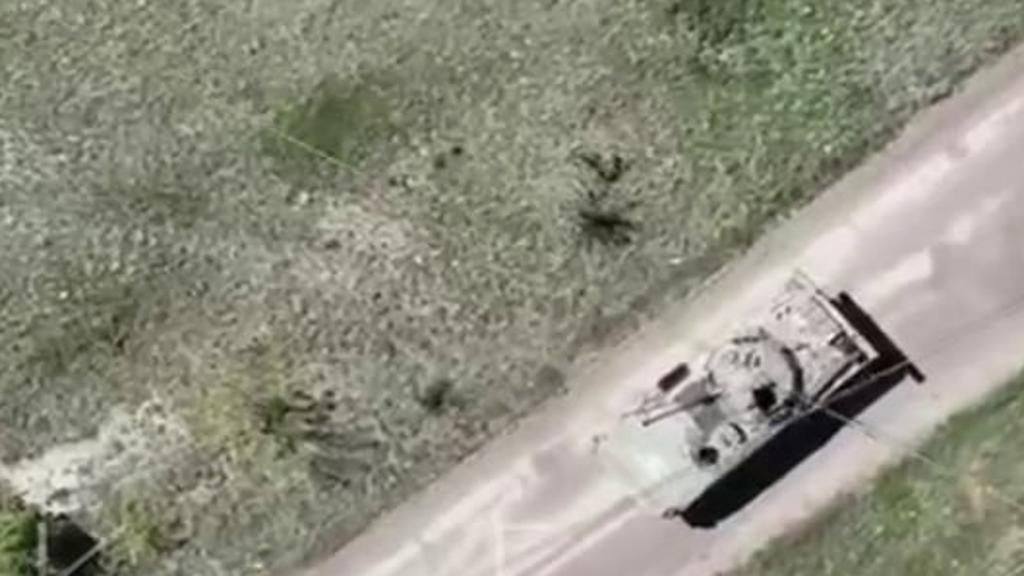APC-IFV: (587, 258, 887, 524)
